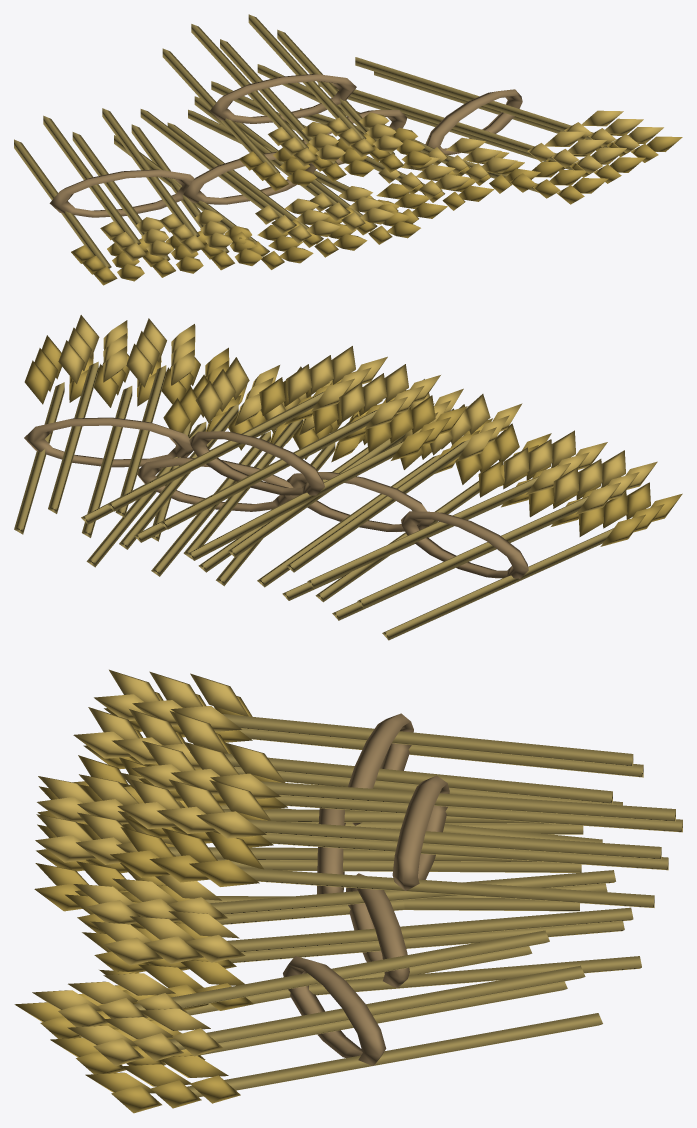
Rendered from pile-rice-5.gltf.
3 renders of one model, top to bottom at view 1: azimuth 30°, elevation 25°; view 2: azimuth 150°, elevation 25°; view 3: azimuth 270°, elevation 25°, orthographic. The views are drawn at different scales.
Visible parts, largest first — view 1: pile-rice-5; view 2: pile-rice-5; view 3: pile-rice-5.
Part boxes in pixels (bbox=[...]): pile-rice-5: bbox=[14, 14, 682, 285]; pile-rice-5: bbox=[14, 315, 682, 640]; pile-rice-5: bbox=[14, 669, 682, 1113].
Size of the model in its own units: 0.7921 by 0.1202 by 0.5408.
